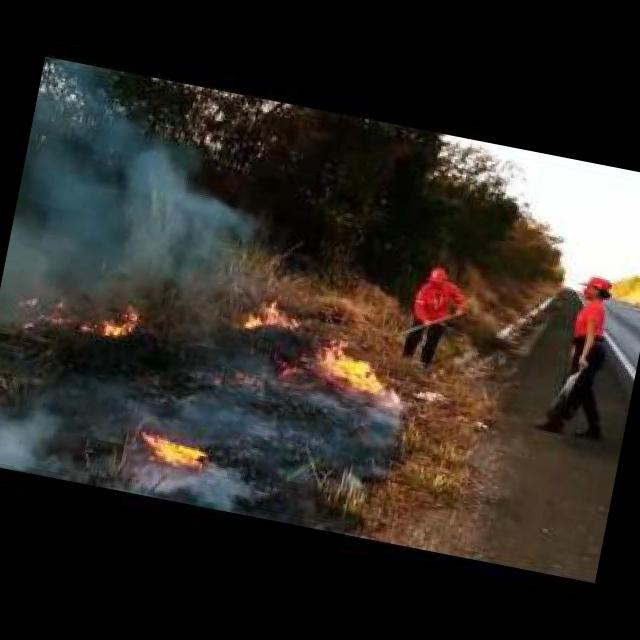fire: (318, 338, 388, 392), (134, 430, 207, 468), (245, 300, 286, 336), (101, 305, 142, 339)
smoke: (4, 84, 272, 310), (68, 368, 286, 454), (290, 379, 406, 453), (130, 452, 262, 516), (0, 387, 71, 476), (188, 339, 280, 406)
